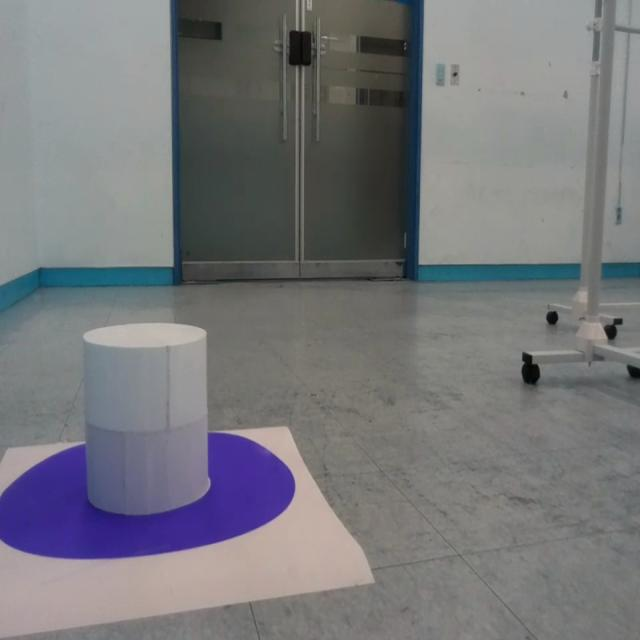cylinder: (82, 322, 209, 514)
